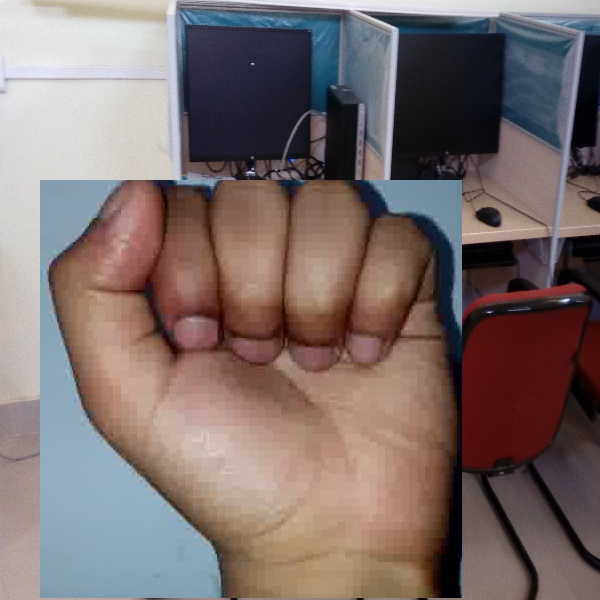A: (40, 180, 462, 598)
